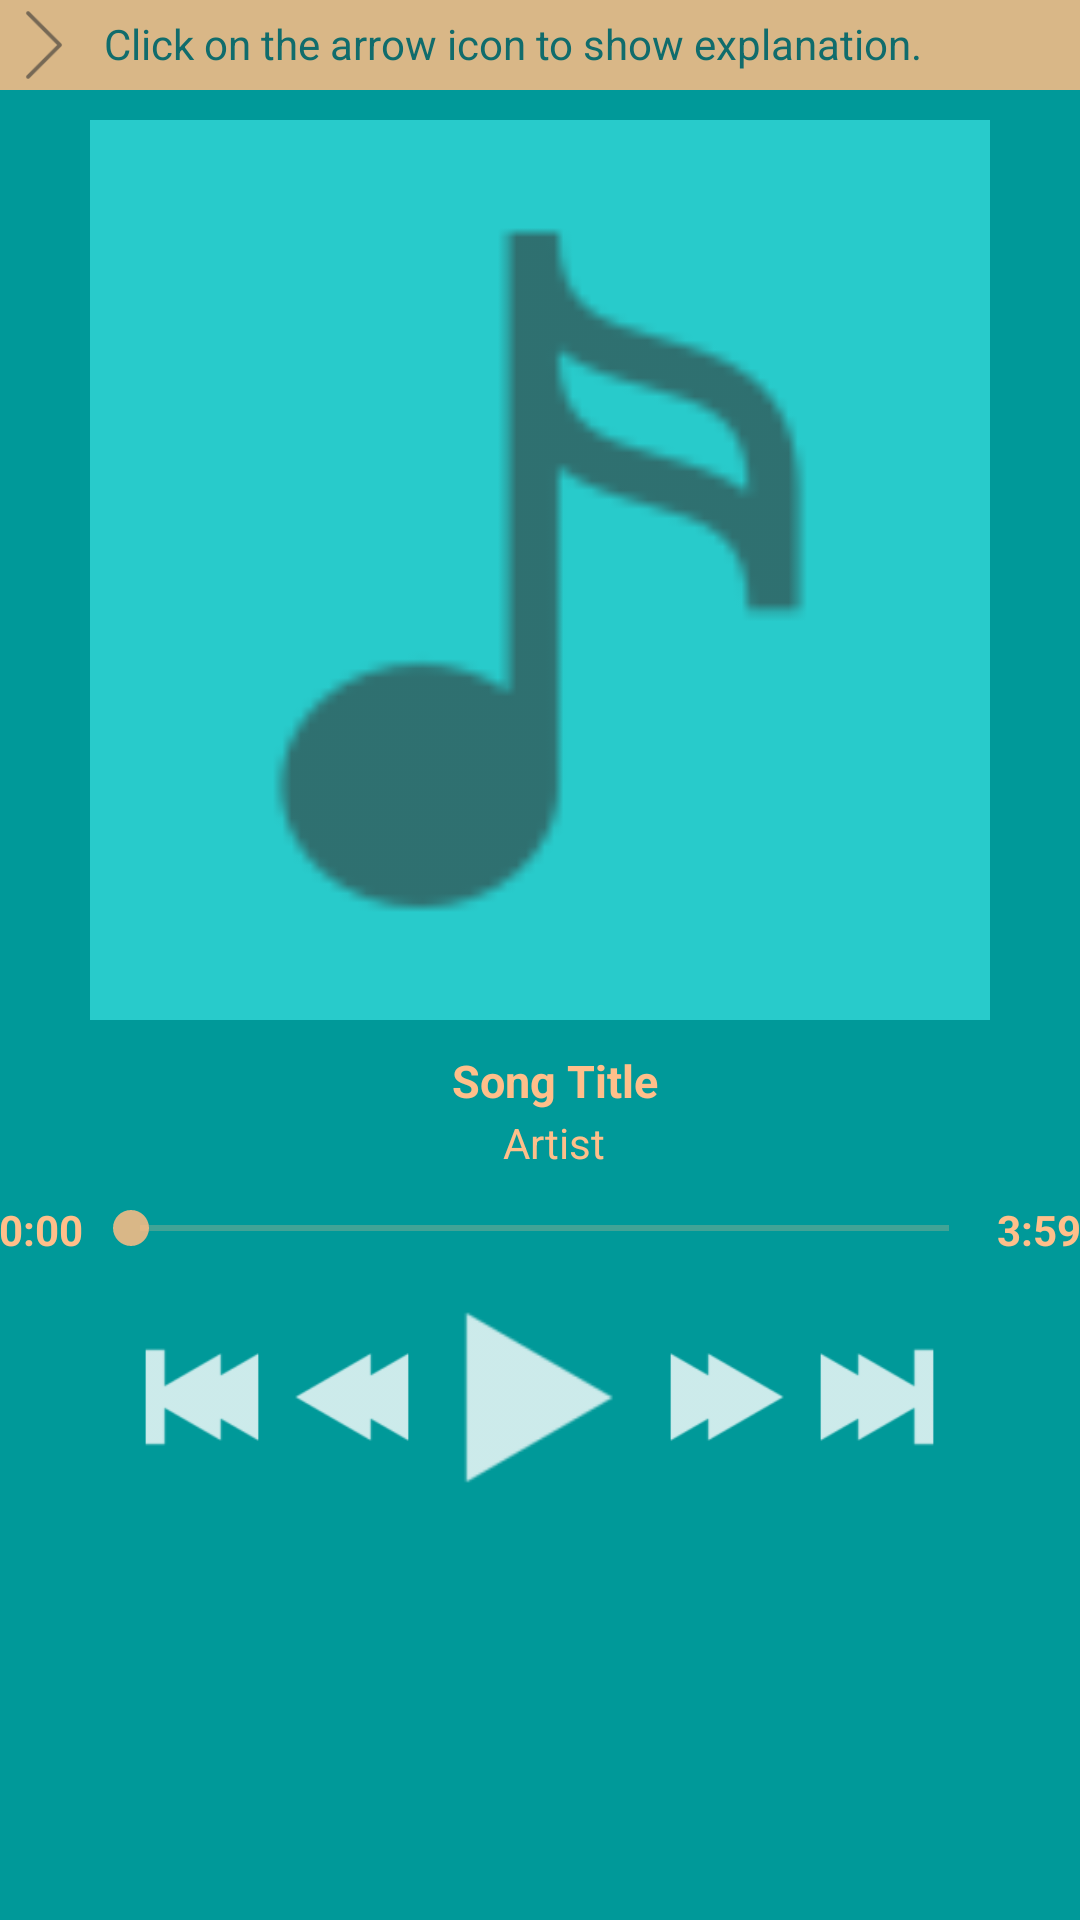

Where to tap for icons on this 1080px x 1920px app screen, as point (x, y):
arrow side: point (44, 45)
forward: point (726, 1397)
play: point (539, 1397)
previous: point (202, 1397)
rewind: point (352, 1397)
skip: point (877, 1397)
